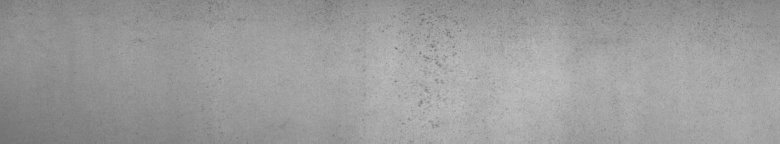ib: (400, 13, 464, 129)
